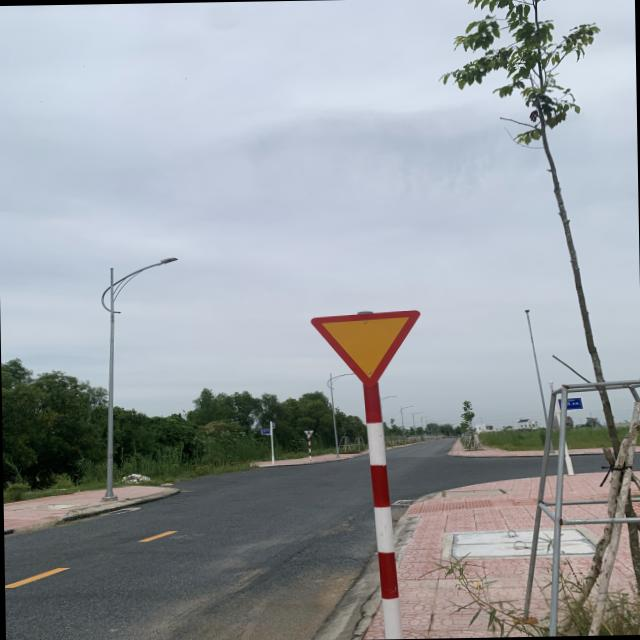Gioi_Han_Toc_Do_25: (310, 308, 421, 388)
